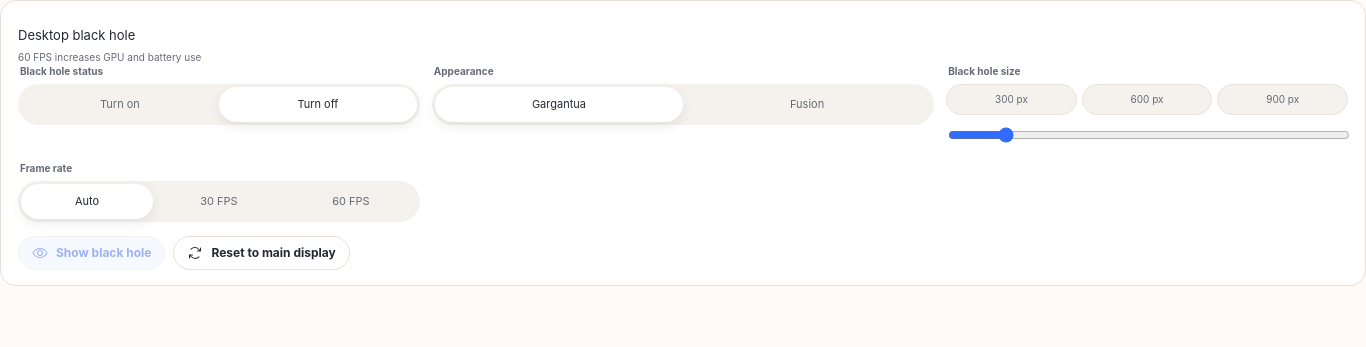
Test: turns on atomically and unlocks visibility controls
Click the button "Turn on" at (120, 104), box x1=21 y1=87 x2=219 y2=122
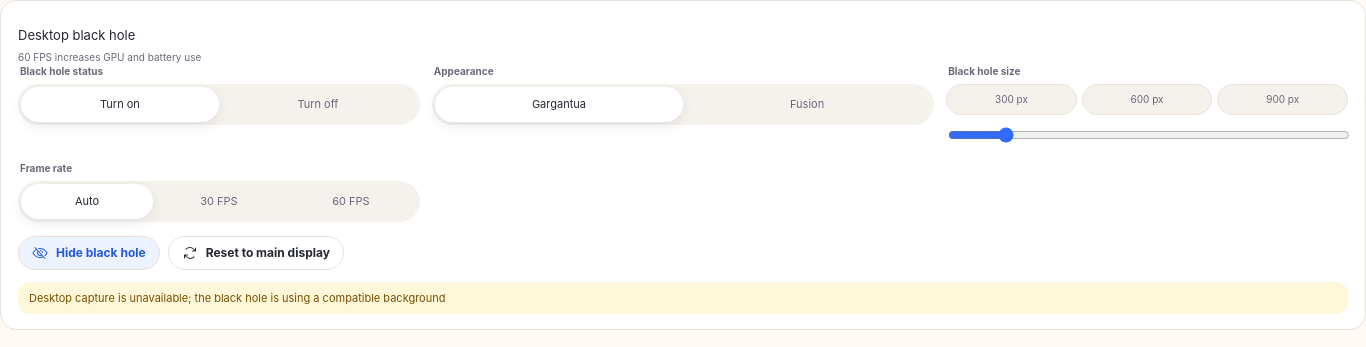
expect the button "Hide black hole" is enabled: met, box x1=18 y1=236 x2=160 y2=270
